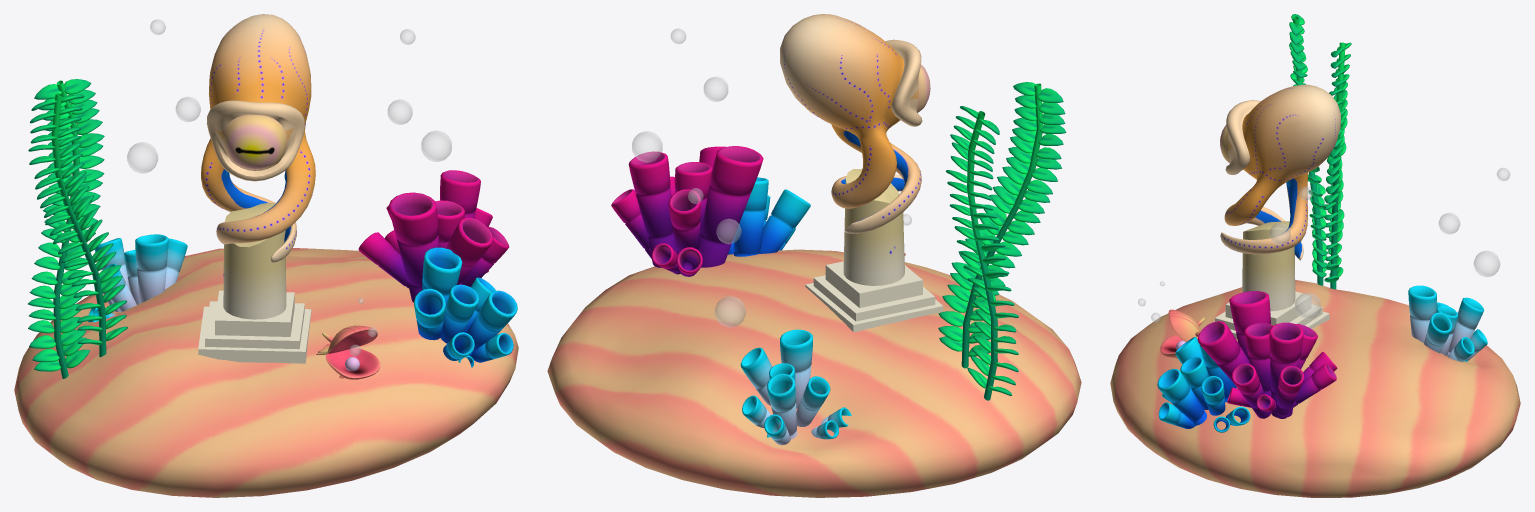
File: reef_2.glb
3 views of the same model, side by side, from view 1: azimuth 30°, elevation 25°; view 2: azimuth 150°, elevation 25°; view 3: azimuth 270°, elevation 25° (orthographic). The views are drawn at different scales.
Parts seen in each view (by area): view 1: Object008_Material #25_0, Object008_Material #160_0, Object008_Material #165_0, Object008_Material #158_0, Object008_Material #156_0, Object008_Material #159_0, Object008_15 - Default_0, Object008_Material #166_0; view 2: Object008_Material #25_0, Object008_Material #160_0, Object008_Material #165_0, Object008_Material #158_0, Object008_Material #159_0, Object008_Material #156_0, Object008_15 - Default_0; view 3: Object008_Material #25_0, Object008_Material #160_0, Object008_Material #158_0, Object008_Material #165_0, Object008_Material #156_0, Object008_Material #159_0, Object008_15 - Default_0, Object008_Material #166_0.
Boxes of the visible parts, <box> form: Object008_Material #25_0: <box>14,248,518,497</box>; Object008_Material #160_0: <box>198,14,315,363</box>; Object008_Material #165_0: <box>28,79,127,378</box>; Object008_Material #158_0: <box>358,170,509,302</box>; Object008_Material #156_0: <box>414,247,517,367</box>; Object008_Material #159_0: <box>88,234,187,322</box>; Object008_15 - Default_0: <box>127,19,451,356</box>; Object008_Material #166_0: <box>316,324,380,379</box>; Object008_Material #25_0: <box>547,249,1081,497</box>; Object008_Material #160_0: <box>780,14,943,332</box>; Object008_Material #165_0: <box>938,82,1066,400</box>; Object008_Material #158_0: <box>611,146,763,276</box>; Object008_Material #159_0: <box>740,329,851,445</box>; Object008_Material #156_0: <box>728,177,810,256</box>; Object008_15 - Default_0: <box>632,28,911,327</box>; Object008_Material #25_0: <box>1110,280,1520,497</box>; Object008_Material #160_0: <box>1214,84,1340,338</box>; Object008_Material #158_0: <box>1197,291,1337,418</box>; Object008_Material #165_0: <box>1289,14,1351,289</box>; Object008_Material #156_0: <box>1157,337,1250,432</box>; Object008_Material #159_0: <box>1408,285,1487,361</box>; Object008_15 - Default_0: <box>1138,167,1510,322</box>; Object008_Material #166_0: <box>1160,309,1205,358</box>.
Bounding box in the file's own units: 2.36 × 1.87 × 2.12.
Materials: 9 (7 with a texture image).
